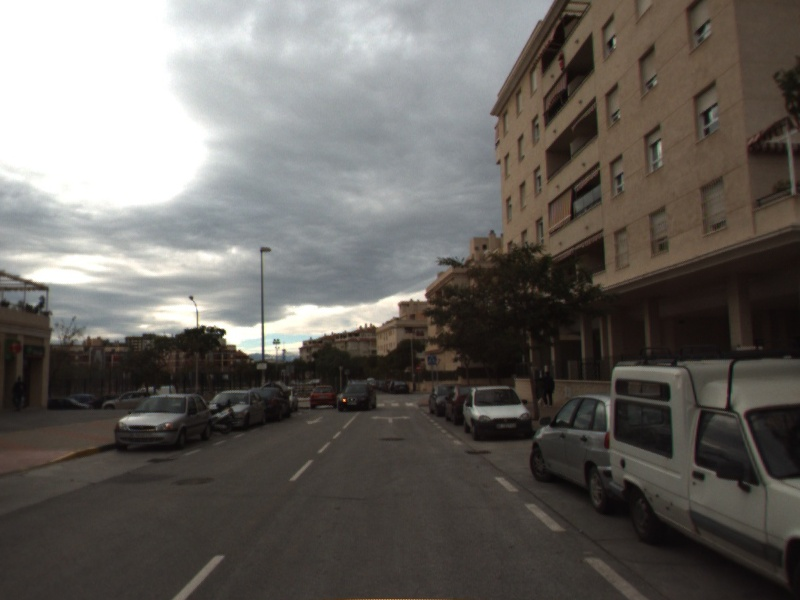LEFT_RIGHT: (369, 413, 413, 425)
